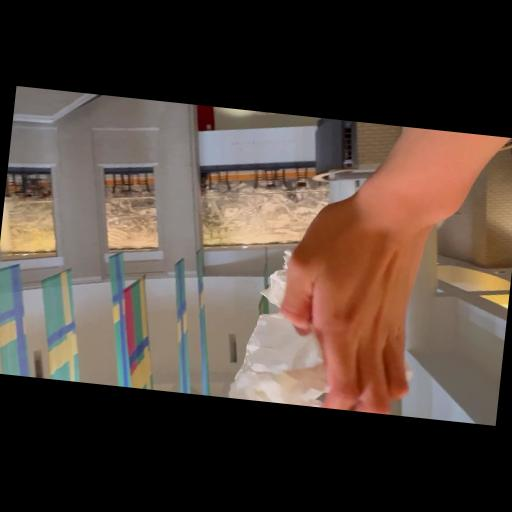napkin: (226, 240, 428, 418)
